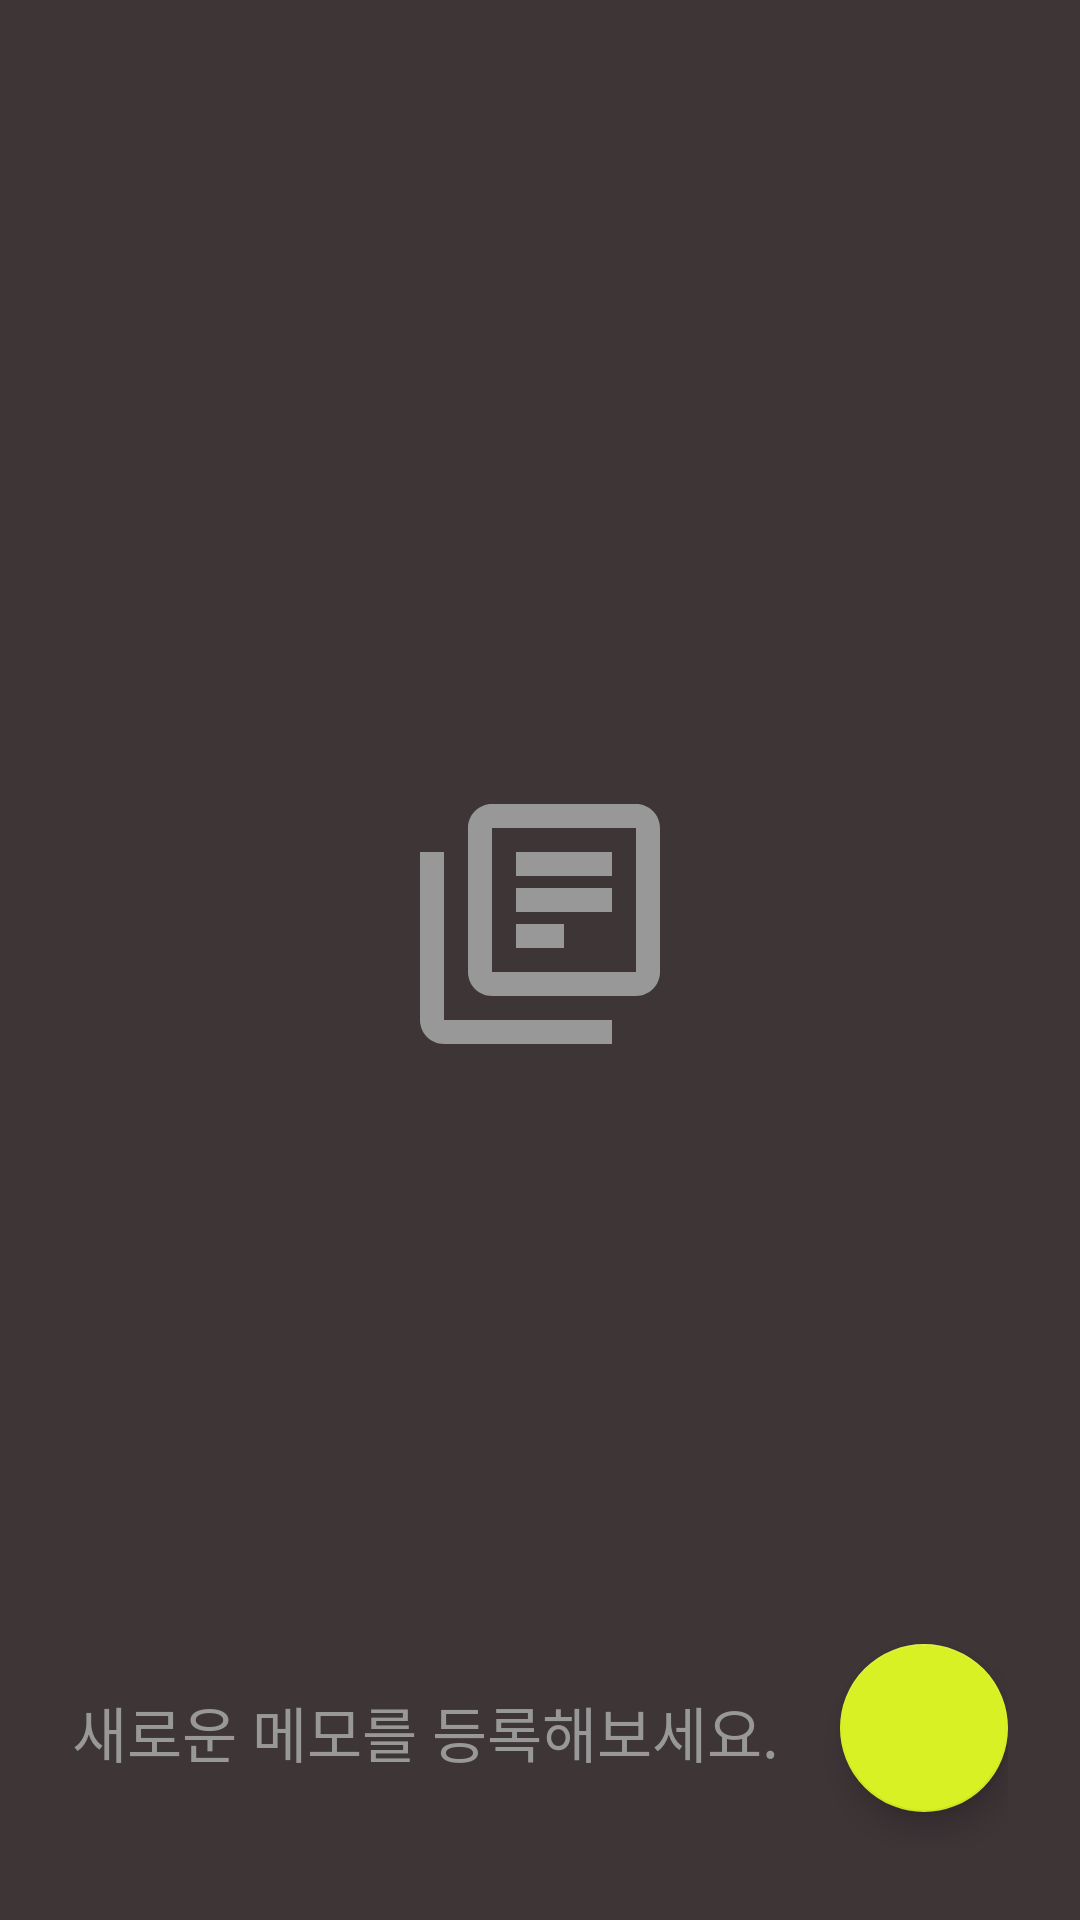

Icon click points for this 1080*1920 phone screenshot, format point (x, y):
memo: point (540, 924)
